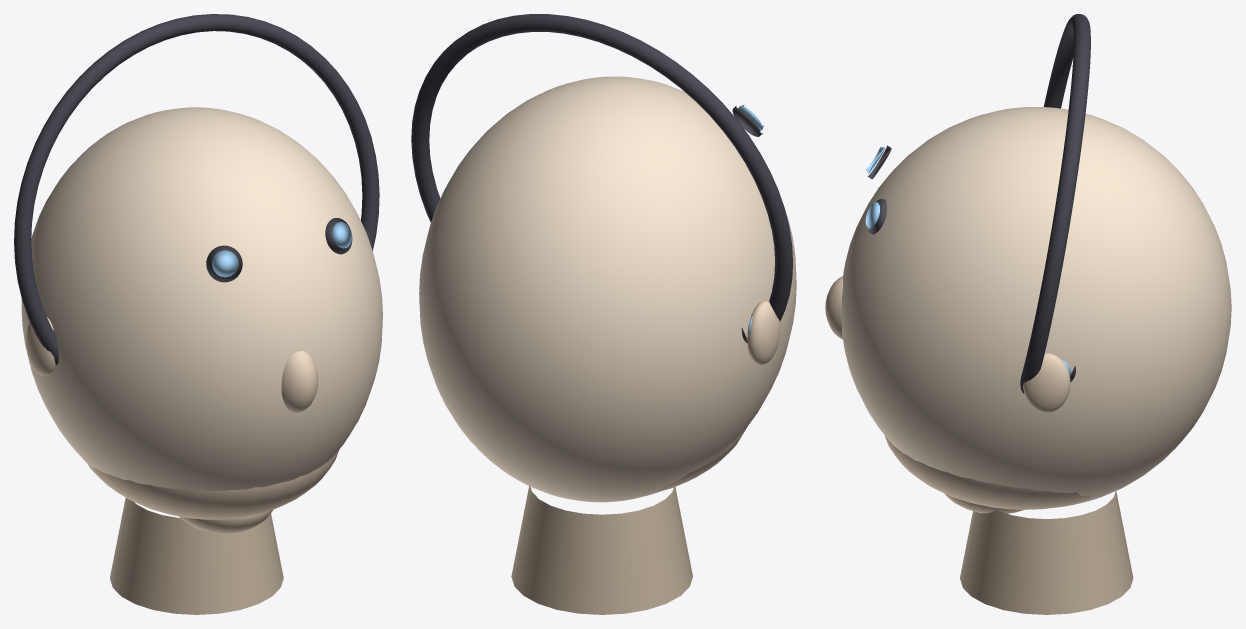
File: head_with_muse.glb
3 renders of one model, left to right at view 1: azimuth 30°, elevation 25°; view 2: azimuth 150°, elevation 25°; view 3: azimuth 270°, elevation 25°, orthographic. The views are drawn at different scales.
Visible parts, largest first — view 1: Head, Neck, MuseHeadband, Jaw, Nose, Chin, EarL, AF7, AF7_Mount; view 2: Head, Neck, MuseHeadband, EarL, Jaw; view 3: Head, Neck, MuseHeadband, Jaw, EarR, Nose.
Part boxes in pixels (x1,y1,x2,y2): Head: [21, 107, 382, 490]; Neck: [110, 498, 283, 614]; MuseHeadband: [14, 14, 379, 364]; Jaw: [87, 450, 338, 519]; Nose: [281, 351, 318, 412]; Chin: [179, 510, 272, 533]; EarL: [26, 317, 55, 375]; AF7: [212, 250, 238, 277]; AF7_Mount: [206, 245, 242, 282]; Head: [419, 76, 796, 502]; Neck: [511, 486, 692, 614]; MuseHeadband: [411, 14, 792, 321]; EarL: [747, 300, 780, 364]; Jaw: [654, 428, 746, 492]; Head: [841, 107, 1231, 507]; Neck: [960, 491, 1133, 614]; MuseHeadband: [1020, 14, 1090, 393]; Jaw: [884, 435, 1091, 509]; EarR: [1023, 353, 1070, 412]; Nose: [825, 276, 842, 339].
Bounding box in the file's own units: 1.92 × 2.77 × 1.87.
